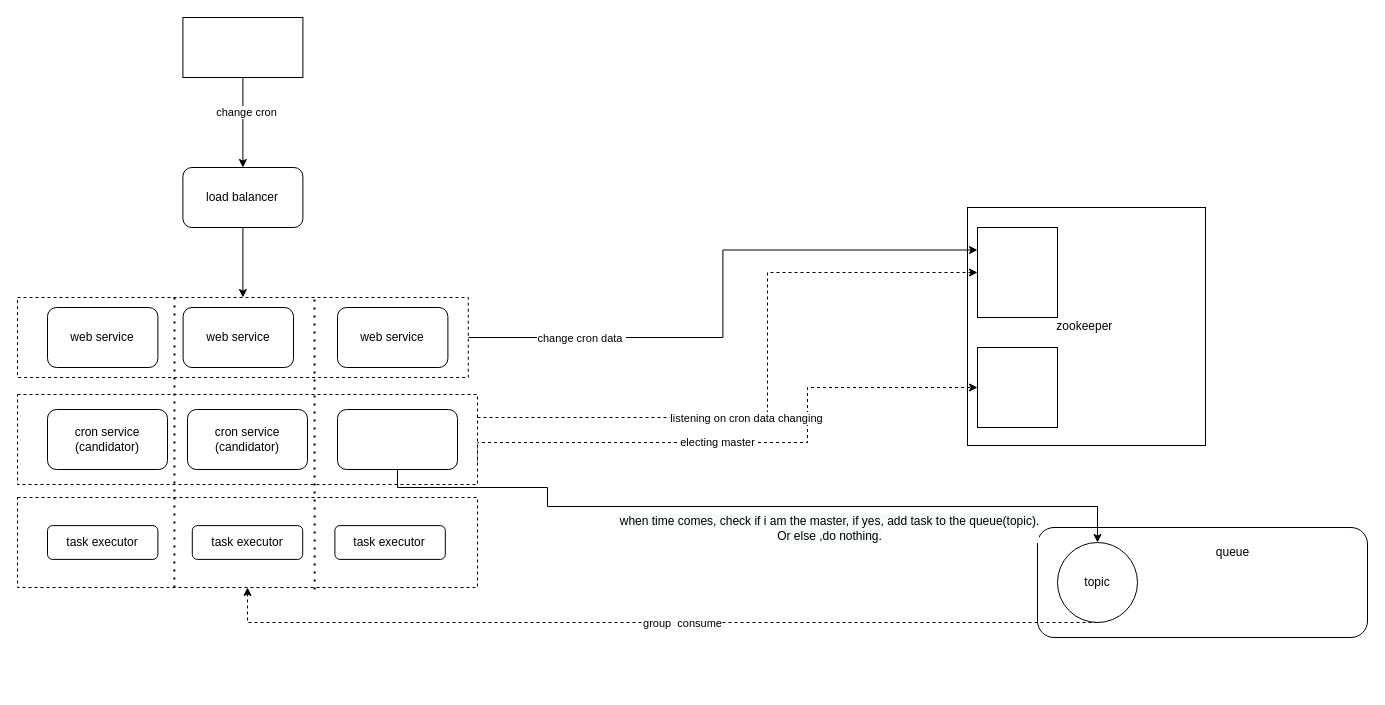
Image size: 1385x705. Some labels were removed from this diagram. The shapes that lost their labels are listed below. From the top down, each one's centre as x and y in pixels, then its label:
the point at 242,47: web
the point at 1017,272: cron data
the point at 1017,387: election
the point at 397,439: cron service (leader)
